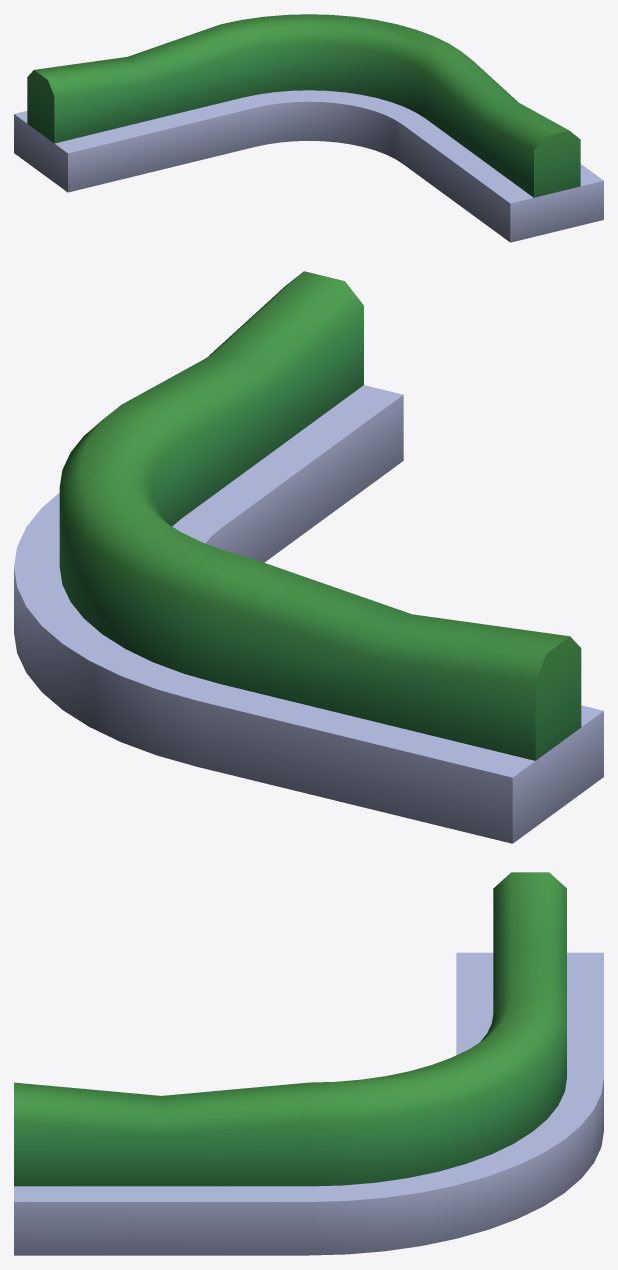
File: hedge_corner.glb
3 renders of one model, top to bottom at view 1: azimuth 30°, elevation 25°; view 2: azimuth 150°, elevation 25°; view 3: azimuth 270°, elevation 25°, orthographic. The views are drawn at different scales.
Visible parts, largest first — view 1: hedge_corner; view 2: hedge_corner; view 3: hedge_corner.
Boxes of the visible parts, box(x1,y1,x2,y2) form: hedge_corner: box(14, 14, 603, 242); hedge_corner: box(14, 271, 603, 843); hedge_corner: box(14, 872, 603, 1255).
Size of the model in its own units: 1 by 0.25 by 1.
1 material, 1 textured.
